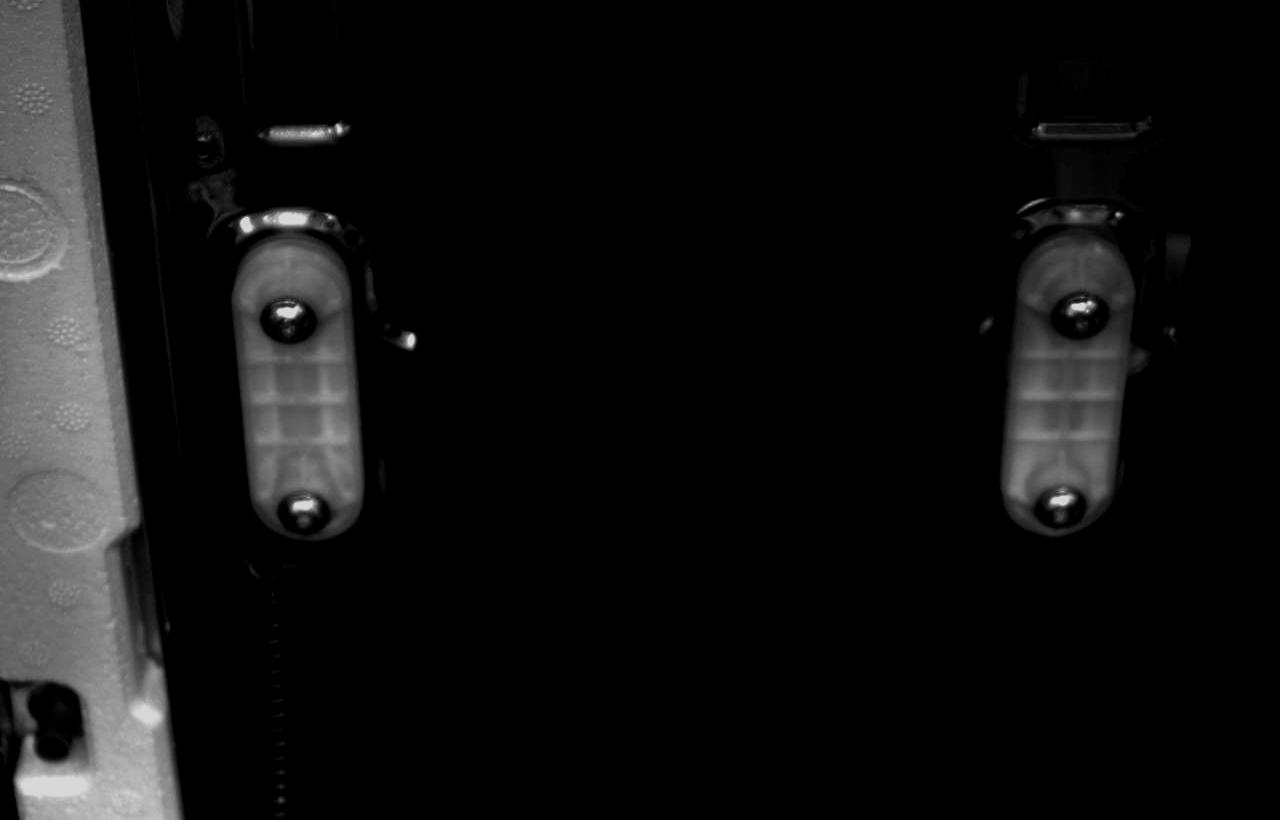vida-ok: (253, 288, 324, 355), (1049, 288, 1116, 355), (1026, 469, 1091, 538), (267, 481, 333, 539)
